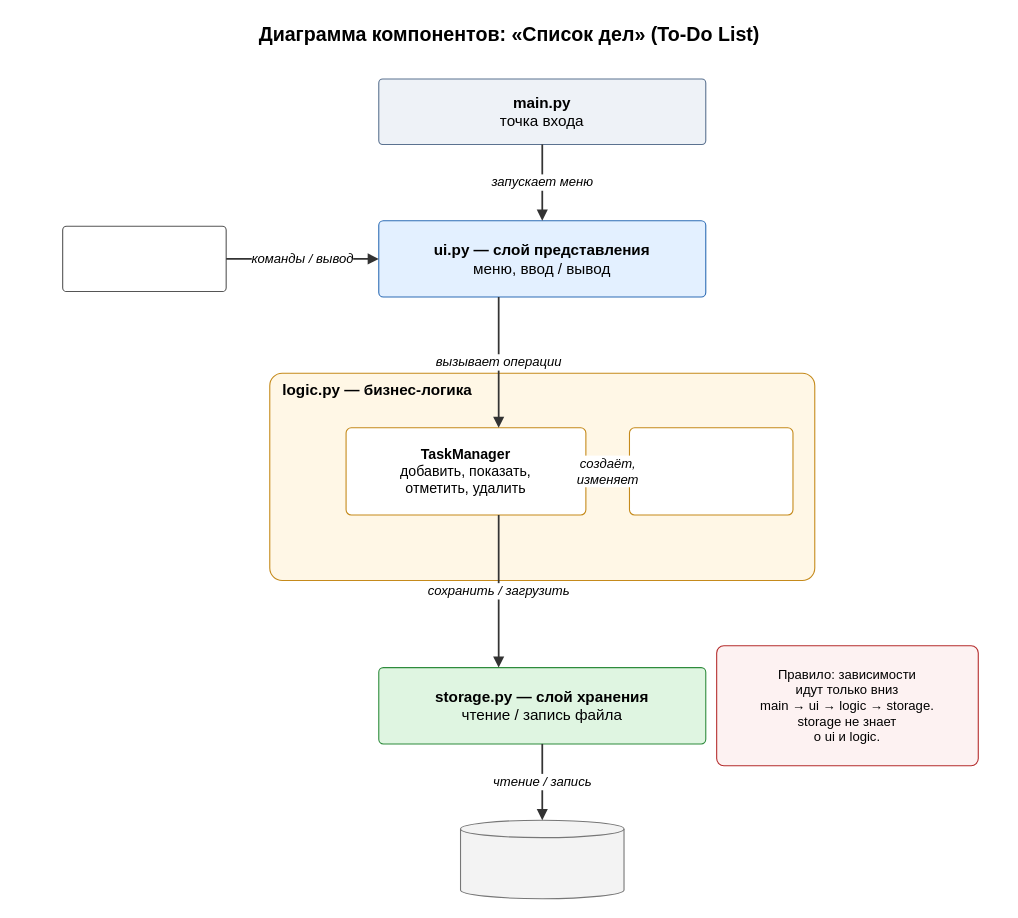
Some shapes in this 1018 by 918 pixel diagram are drawn without their labels. The centre of each missing label's shape, as x and y in pixels:
Task title, deadline, done: (x=710, y=471)
tasks.txt (в .gitignore): (x=541, y=859)
Пользователь: (x=144, y=258)
